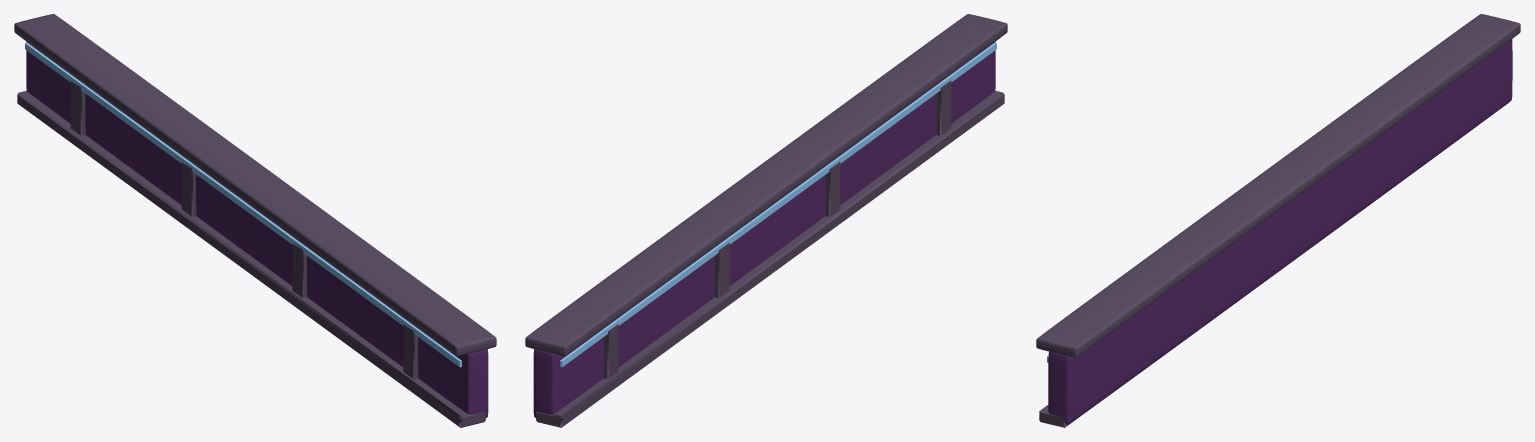
File: SM_SB_Kit_KeelShell_EdgeStrip.fbx
3 renders of one model, left to right at view 1: azimuth 30°, elevation 25°; view 2: azimuth 150°, elevation 25°; view 3: azimuth 330°, elevation 25°, orthographic.
Parts seen in each view (by area): view 1: SM_SB_Kit_KeelShell_EdgeStrip; view 2: SM_SB_Kit_KeelShell_EdgeStrip; view 3: SM_SB_Kit_KeelShell_EdgeStrip.
Boxes of the visible parts, x1,y1,x2,y2 form: SM_SB_Kit_KeelShell_EdgeStrip: [14, 14, 496, 427]; SM_SB_Kit_KeelShell_EdgeStrip: [525, 14, 1007, 427]; SM_SB_Kit_KeelShell_EdgeStrip: [1036, 14, 1520, 427].
Size of the model in its own units: 21.93 by 400 by 41.46.
